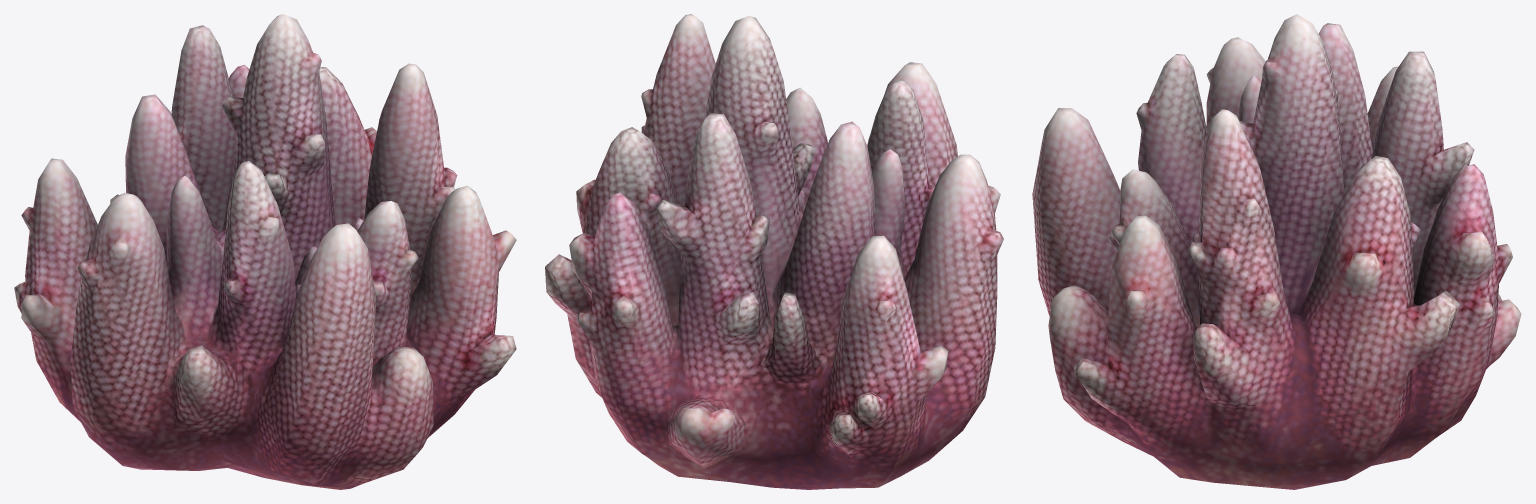
File: Coral04-2.fbx
3 views of the same model, side by side, from view 1: azimuth 30°, elevation 25°; view 2: azimuth 150°, elevation 25°; view 3: azimuth 270°, elevation 25° (orthographic). The views are drawn at different scales.
Parts seen in each view (by area): view 1: Coral_16_2; view 2: Coral_16_2; view 3: Coral_16_2.
Boxes of the visible parts, x1=… form: Coral_16_2: x1=14, y1=14, x2=516, y2=489; Coral_16_2: x1=545, y1=14, x2=1003, y2=489; Coral_16_2: x1=1032, y1=14, x2=1521, y2=489.
Size of the model in its own units: 132 by 143 by 138.
